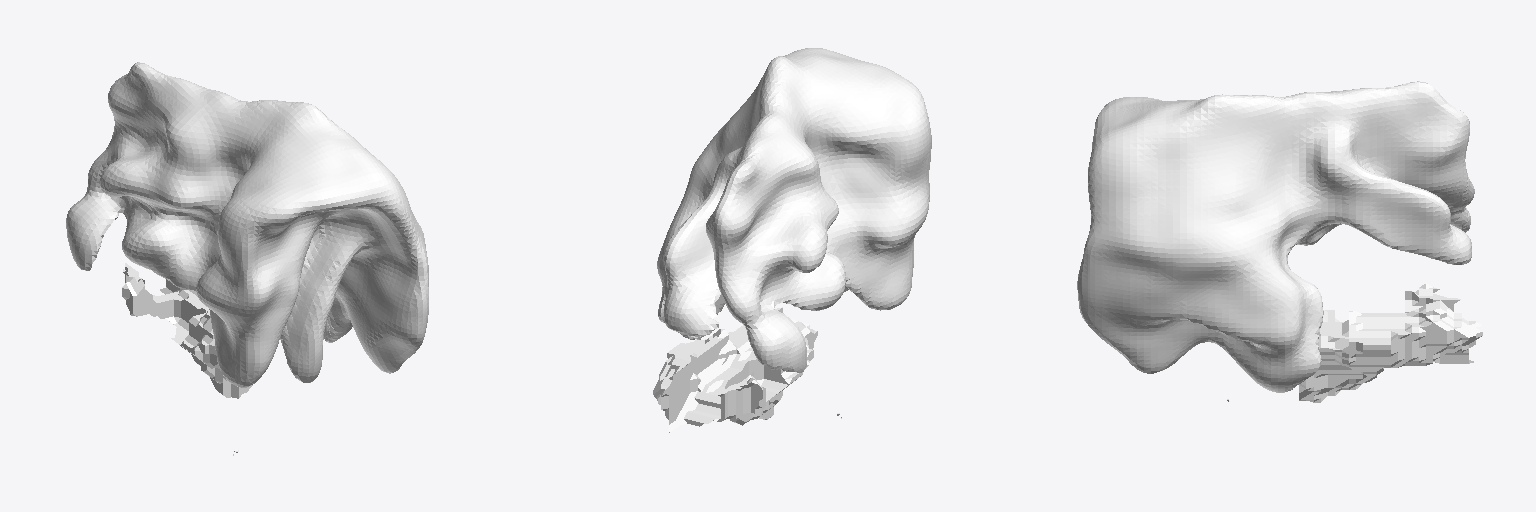
The model's file is segmentation_1.obj.
The picture shows the model from 3 angles: view 1: azimuth 30°, elevation 25°; view 2: azimuth 150°, elevation 25°; view 3: azimuth 270°, elevation 25°; orthographic projection.
Parts seen in each view (by area): view 1: grp1; view 2: grp1; view 3: grp1.
Boxes of the visible parts, x1=… form: grp1: x1=66, y1=62, x2=428, y2=455; grp1: x1=653, y1=48, x2=931, y2=432; grp1: x1=1077, y1=81, x2=1482, y2=402.
Size of the model in its own units: 52.91 by 79.66 by 86.28.